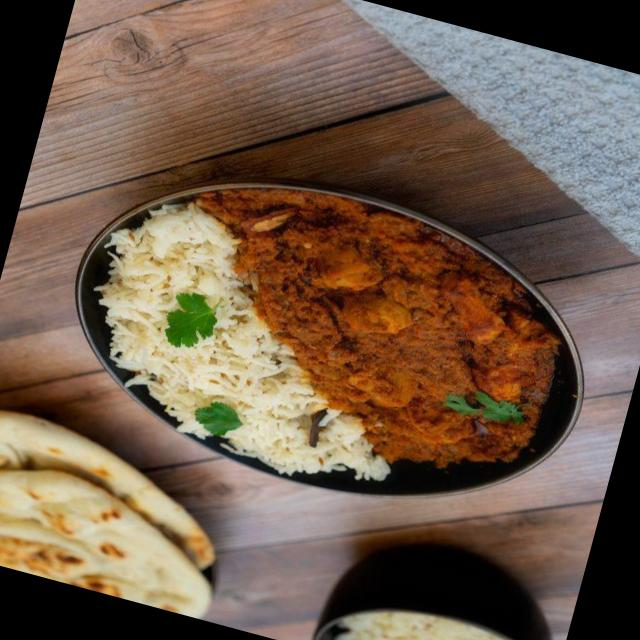chicken: (262, 208, 584, 482)
rice: (44, 201, 336, 480), (317, 602, 530, 640)
roti: (0, 421, 246, 621)
